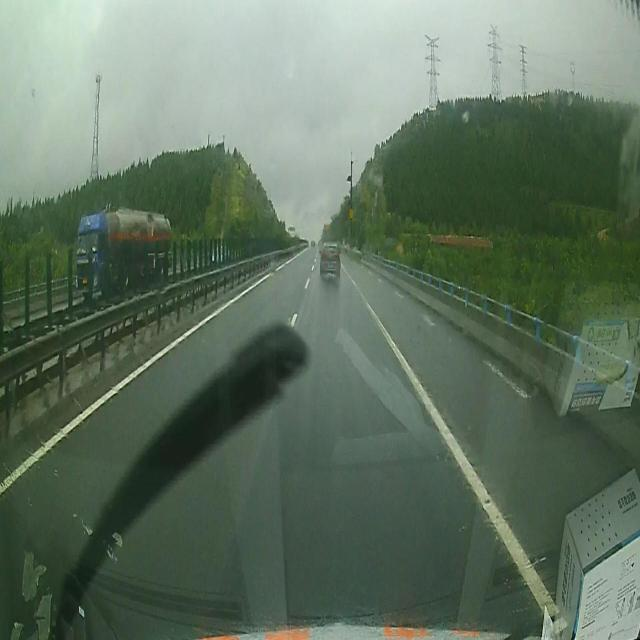car: (318, 238, 342, 278)
